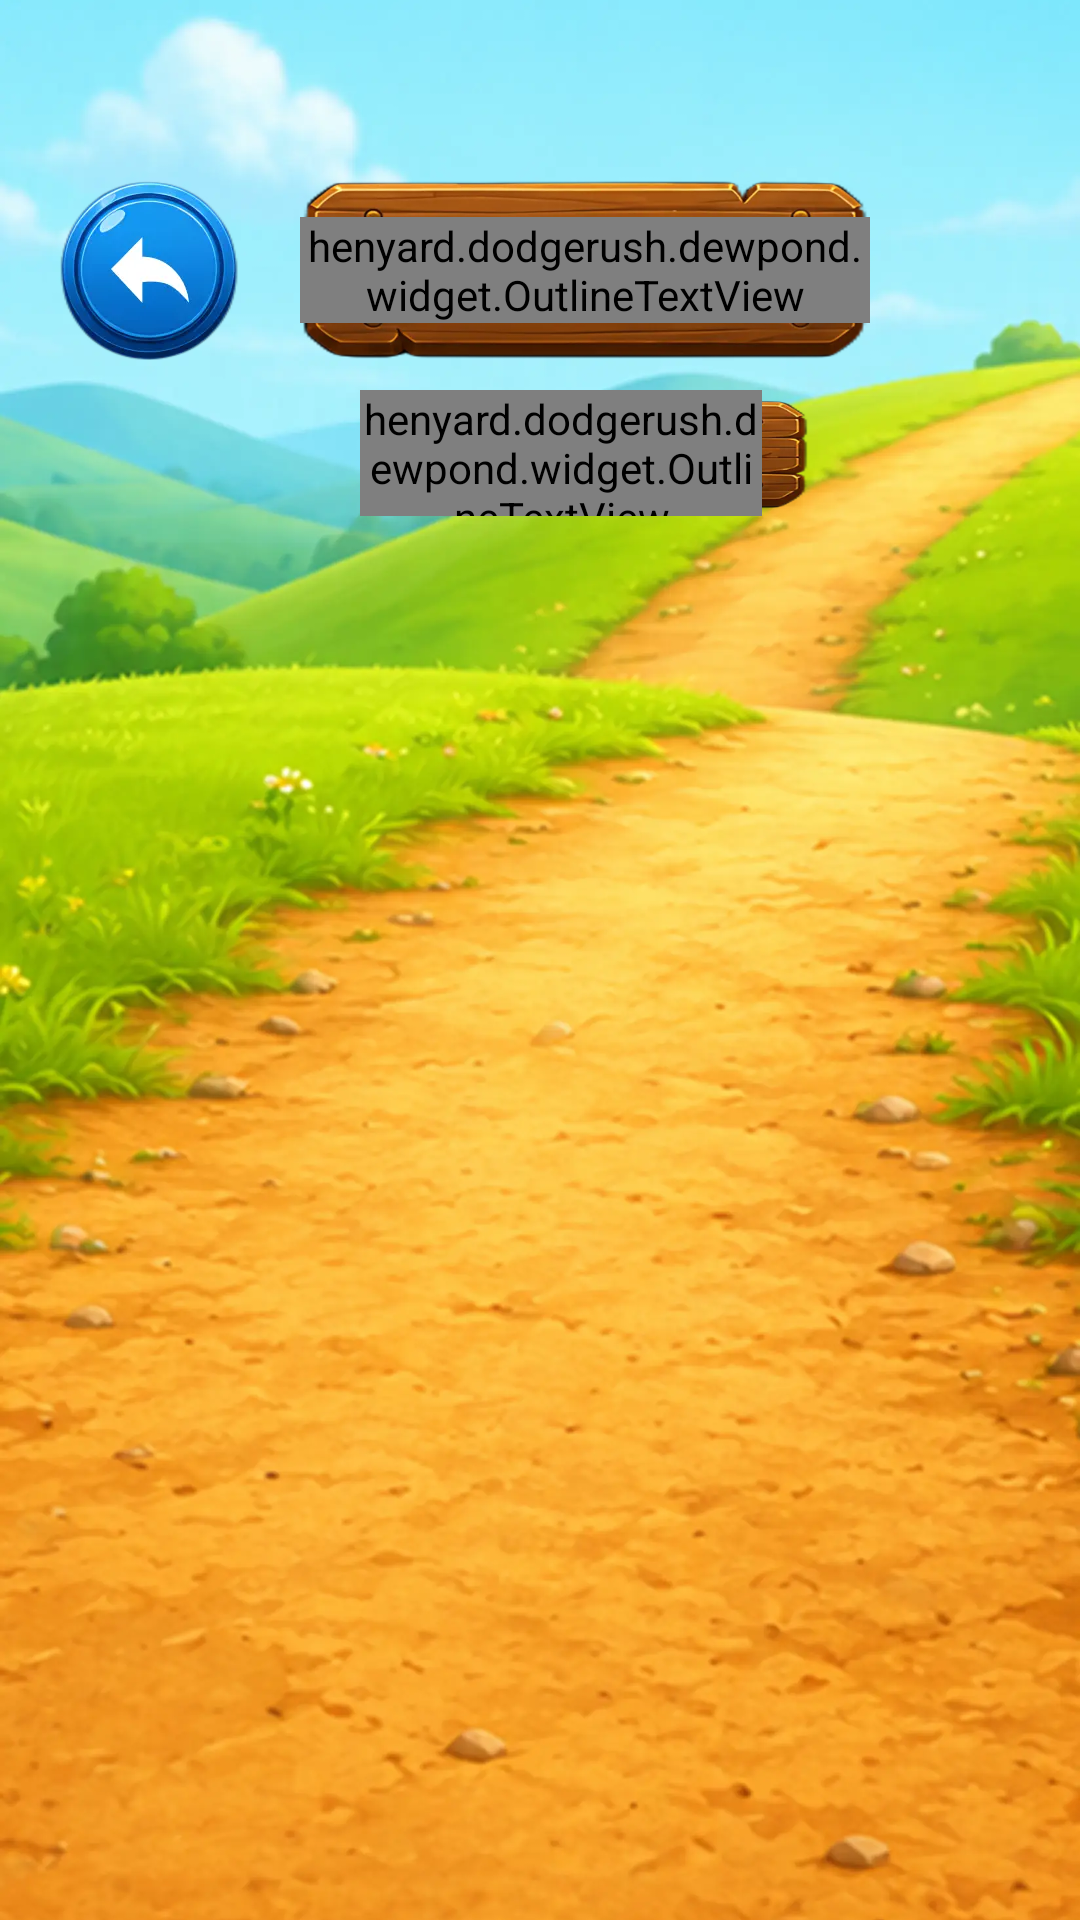

Where to tap for icons on this 1080px×1920px app screen, as point (x, y):
Back: point (149, 271)
